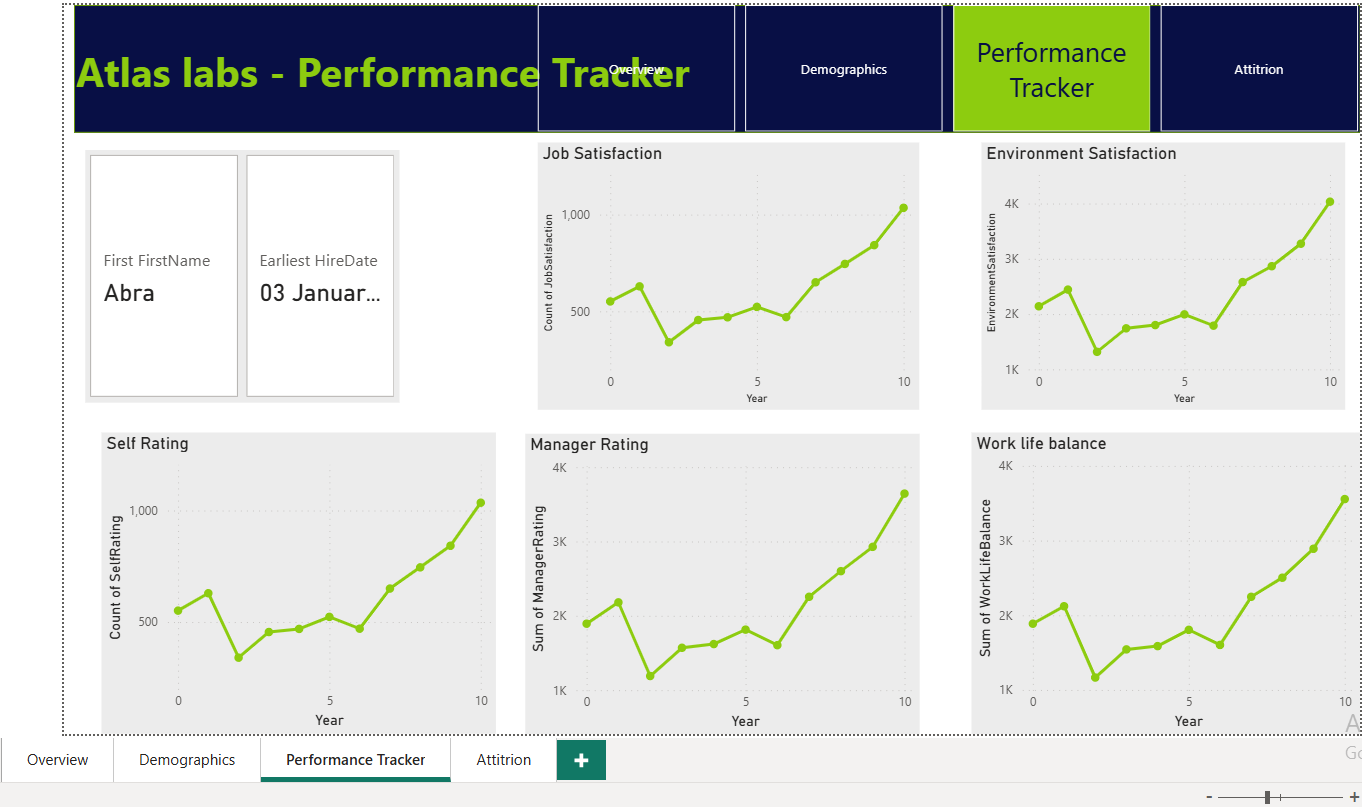

Layout of this report page (visuals, bound fields, positions):
{"tool":"powerbi","page":{"name":"Performance Tracker","canvas":[1280,720],"ordinal":2},"visuals":[{"type":"shape","box":[9.6,0,1270.7,126.2],"z":0},{"type":"pageNavigator","box":[468.2,0,811.7,125.9],"z":1000},{"type":"lineChart","title":"Environment Satisfaction","fields":{"Y":["Sum(PerformanceRating.EnvironmentSatisfaction)"],"Category":["Employee.YearsAtCompany"]},"box":[905.8,135.7,359.4,264],"z":2000},{"type":"cardVisual","fields":{"Data":["Min(Employee.FirstName)","Min(Employee.HireDate)"]},"box":[20.8,143,310.5,249.4],"z":3000},{"type":"lineChart","title":"Work life balance","fields":{"Category":["Employee.YearsAtCompany"],"Y":["Sum(PerformanceRating.WorkLifeBalance)"]},"box":[896,421.7,383.8,298.3],"z":4000},{"type":"lineChart","title":"Job Satisfaction","fields":{"Category":["Employee.YearsAtCompany"],"Y":["CountNonNull(PerformanceRating.JobSatisfaction)"]},"box":[468.2,135.7,376.5,264],"z":5000},{"type":"lineChart","title":"Manager Rating","fields":{"Category":["Employee.YearsAtCompany"],"Y":["Sum(PerformanceRating.ManagerRating)"]},"box":[455.6,423.6,389.8,297.2],"z":6000},{"type":"lineChart","title":"Self Rating","fields":{"Category":["Employee.YearsAtCompany"],"Y":["CountNonNull(PerformanceRating.SelfRating)"]},"box":[37.4,421.8,389.8,297.2],"z":7000}]}

Visuals, with their boxes on the page's 1280x720 design canvas (x1, y1, x2, y2). These are canvas units, not pixel positions in the 1362x807 screenshot, which may show the page scaled, cropped or inside an application window:
shape: bbox(10, 0, 1280, 126)
pageNavigator: bbox(468, 0, 1280, 126)
"Environment Satisfaction" lineChart: bbox(906, 136, 1265, 400)
cardVisual - Min(Employee.FirstName) x Min(Employee.HireDate): bbox(21, 143, 331, 392)
"Work life balance" lineChart: bbox(896, 422, 1280, 720)
"Job Satisfaction" lineChart: bbox(468, 136, 845, 400)
"Manager Rating" lineChart: bbox(456, 424, 845, 721)
"Self Rating" lineChart: bbox(37, 422, 427, 719)
